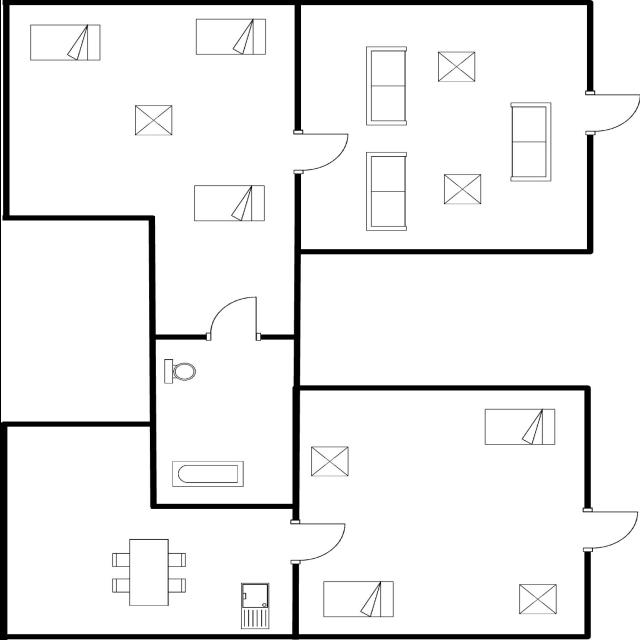bed: (190, 15, 270, 60), (188, 181, 268, 225), (481, 405, 561, 448), (319, 577, 397, 621), (24, 21, 104, 63)
coffee_table: (514, 578, 561, 618), (438, 170, 485, 208), (131, 99, 175, 139), (306, 443, 352, 481), (433, 48, 479, 84)
dining_table: (106, 533, 190, 612)
large_sink: (158, 353, 200, 388)
large_sofa: (504, 98, 556, 186), (360, 42, 410, 130), (360, 148, 410, 234)
sink: (232, 578, 270, 632)
tub: (167, 456, 247, 491)
